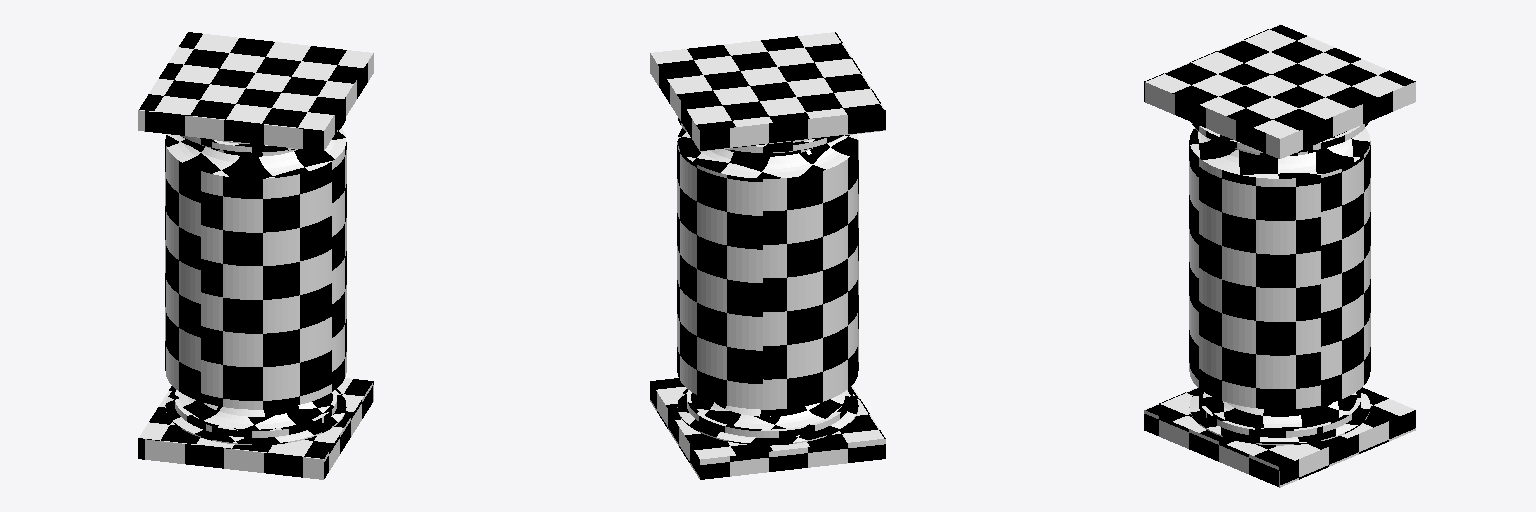
The picture shows the model from 3 angles: view 1: azimuth 30°, elevation 25°; view 2: azimuth 150°, elevation 25°; view 3: azimuth 270°, elevation 25°; orthographic projection.
Parts seen in each view (by area): view 1: Column; view 2: Column; view 3: Column.
Boxes of the visible parts, x1=… form: Column: x1=138, y1=32, x2=373, y2=479; Column: x1=650, y1=32, x2=885, y2=479; Column: x1=1144, y1=24, x2=1415, y2=487.
Size of the model in its own units: 1.2 by 1.7 by 1.2.
1 materials, 1 textured.